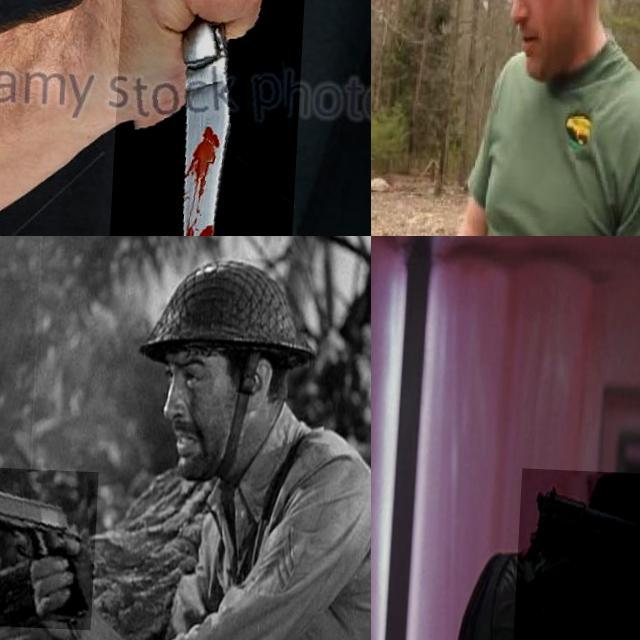-: (112, 0, 312, 236)
gun-knife-thesis - v11 Yolov5 augmented: (517, 466, 640, 640), (0, 465, 102, 628)
